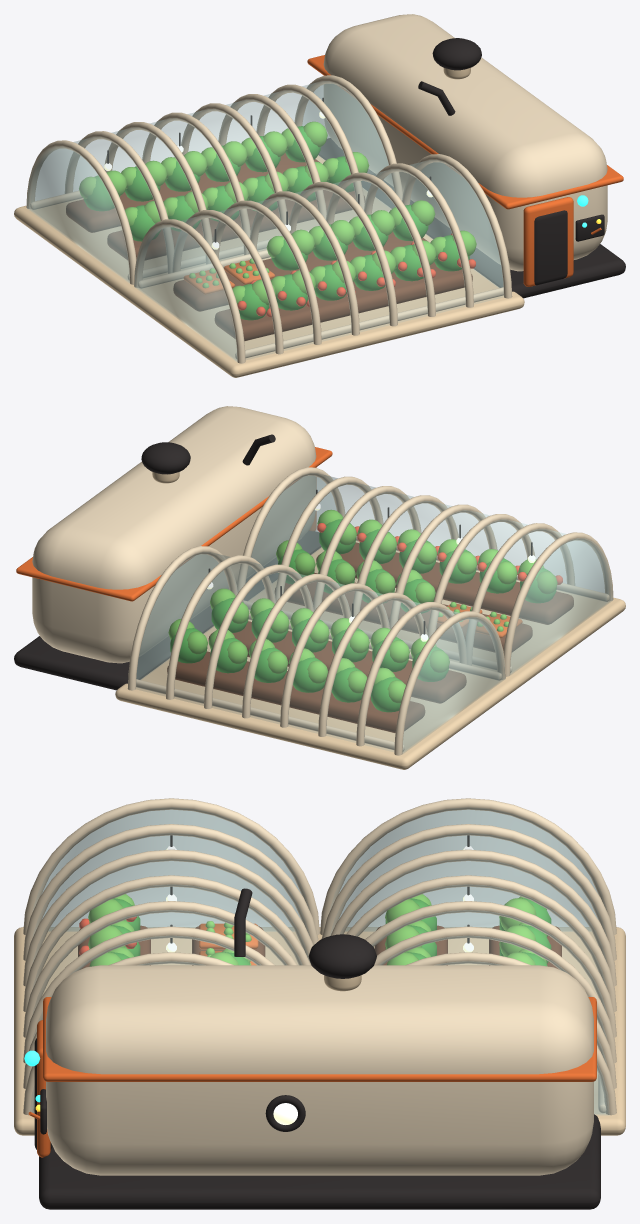
File: greenhouse-20.glb
The picture shows the model from 3 angles, top to bottom: view 1: azimuth 30°, elevation 25°; view 2: azimuth 150°, elevation 25°; view 3: azimuth 270°, elevation 25°; orthographic projection. The views are drawn at different scales.
Visible parts, largest first — view 1: Cylinder, Cube.001, Cube, Sphere.001, Cube.003, Sphere, Cube.011, Cube.009, Sphere.043; view 2: Cube.001, Cylinder, Cube, Cube.003, Sphere.001, Sphere, Cube.011, Cube.009, Sphere.043; view 3: Cube.001, Cylinder, Cube.011, Cube, Cube.009, Sphere.001, Sphere, Cube.003.
Boxes of the visible parts, x1=… form: Cylinder: x1=27, y1=81, x2=503, y2=361; Cube.001: x1=26, y1=14, x2=607, y2=363; Cube: x1=14, y1=67, x2=524, y2=377; Sphere.001: x1=79, y1=121, x2=476, y2=305; Cube.003: x1=66, y1=153, x2=472, y2=341; Sphere: x1=84, y1=126, x2=469, y2=320; Cube.011: x1=107, y1=38, x2=625, y2=298; Cube.009: x1=184, y1=55, x2=623, y2=294; Sphere.043: x1=237, y1=233, x2=475, y2=317; Cube.001: x1=32, y1=406, x2=613, y2=755; Cylinder: x1=136, y1=473, x2=612, y2=753; Cube: x1=115, y1=472, x2=625, y2=769; Cube.003: x1=167, y1=542, x2=573, y2=733; Sphere.001: x1=168, y1=509, x2=557, y2=703; Sphere: x1=170, y1=519, x2=556, y2=712; Cube.011: x1=14, y1=434, x2=532, y2=690; Cube.009: x1=16, y1=447, x2=522, y2=638; Sphere.043: x1=317, y1=523, x2=562, y2=584; Cube.001: x1=23, y1=798, x2=616, y2=1175; Cylinder: x1=30, y1=807, x2=609, y2=1115; Cube.011: x1=34, y1=835, x2=600, y2=1209; Cube: x1=14, y1=927, x2=625, y2=1135; Cube.009: x1=28, y1=923, x2=596, y2=1157; Sphere.001: x1=88, y1=894, x2=546, y2=966; Sphere: x1=89, y1=898, x2=551, y2=966; Cube.003: x1=78, y1=925, x2=561, y2=969.
Bounding box in the file's own units: 2.84 × 1.14 × 2.68.
